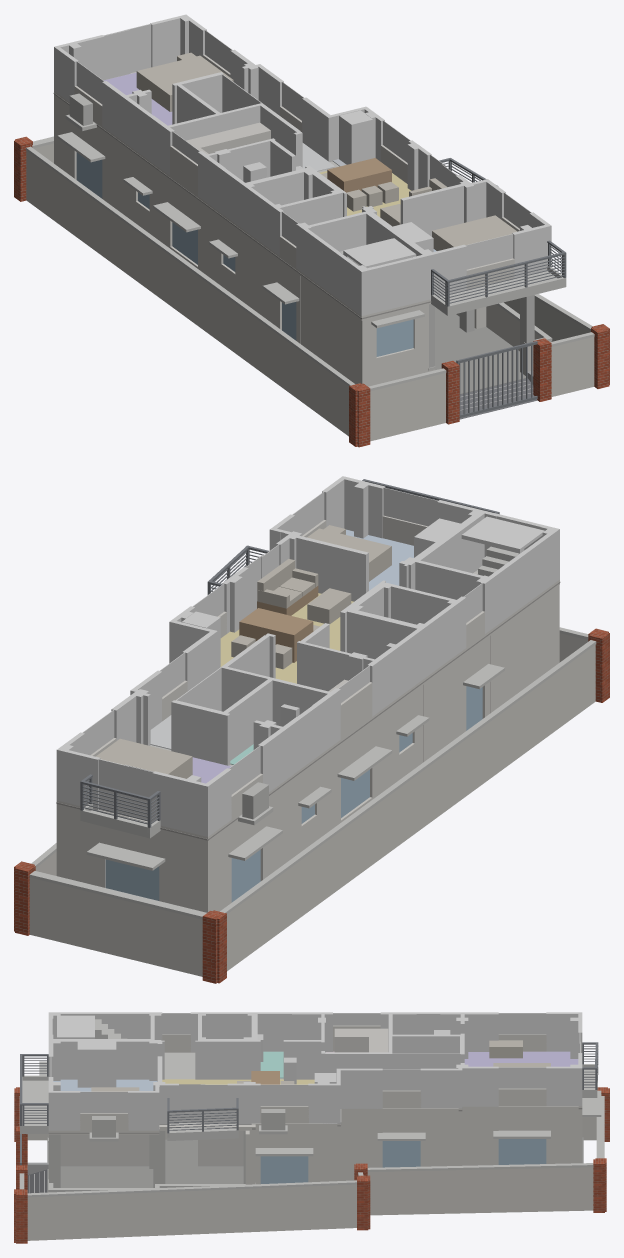
The picture shows the model from 3 angles, top to bottom: view 1: azimuth 30°, elevation 25°; view 2: azimuth 150°, elevation 25°; view 3: azimuth 270°, elevation 25°; orthographic projection. The views are drawn at different scales.
Parts seen in each view (by area): view 1: BOUNDARY#214, GROUND_FLOOR/core_wall#102, BOUNDARY#172, PLINTH#0, 1ST_FLOOR/wall#299, BOUNDARY/coping#215, GROUND_FLOOR/flat_wall#61, GROUND_FLOOR/core_wall#109, BOUNDARY#176, 1ST_FLOOR/wall#304, 1ST_FLOOR/partition#362, 1ST_FLOOR/wall#292 (+69 smaller); view 2: BOUNDARY#214, BOUNDARY#210, GROUND_FLOOR/core_wall#102, 1ST_FLOOR/wall#299, GROUND_FLOOR/flat_wall#83, BOUNDARY/coping#215, 1ST_FLOOR/partition#381, GROUND_FLOOR/flat_wall#88, 1ST_FLOOR/partition#364, GROUND_FLOOR/core_wall#109, 1ST_FLOOR/wall#347, 1ST_FLOOR/wall#304 (+64 smaller); view 3: BOUNDARY#198, BOUNDARY#206, GROUND_FLOOR/stair#42, GROUND_FLOOR/flat_wall#77, 1ST_FLOOR/partition#368, PLINTH#1, 1ST_FLOOR/partition#361, PLINTH#0, GROUND_FLOOR/flat_wall#82, GROUND_FLOOR/flat_wall#89, 1ST_FLOOR/furniture#395, 1ST_FLOOR/wall#304 (+80 smaller).
Part boxes in pixels (x1,y1,x2,y2): BOUNDARY#214: (26, 151, 348, 436); GROUND_FLOOR/core_wall#102: (301, 276, 361, 384); BOUNDARY#172: (370, 373, 445, 441); PLINTH#0: (435, 327, 525, 394); 1ST_FLOOR/wall#299: (296, 223, 362, 314); BOUNDARY/coping#215: (26, 146, 354, 386); GROUND_FLOOR/flat_wall#61: (102, 130, 137, 223); GROUND_FLOOR/core_wall#109: (242, 233, 275, 325); BOUNDARY#176: (551, 337, 594, 396); 1ST_FLOOR/wall#304: (235, 178, 283, 255); 1ST_FLOOR/partition#362: (402, 182, 474, 236); 1ST_FLOOR/wall#292: (413, 244, 466, 302); BOUNDARY#214: (227, 645, 595, 971); BOUNDARY#210: (29, 877, 202, 976); GROUND_FLOOR/core_wall#102: (490, 585, 559, 713); 1ST_FLOOR/wall#299: (480, 530, 557, 633); GROUND_FLOOR/flat_wall#83: (159, 831, 210, 912); BOUNDARY/coping#215: (220, 640, 596, 913); 1ST_FLOOR/partition#381: (171, 700, 230, 765); GROUND_FLOOR/flat_wall#88: (56, 805, 105, 887); 1ST_FLOOR/partition#364: (288, 535, 367, 601); GROUND_FLOOR/core_wall#109: (423, 657, 461, 761); 1ST_FLOOR/wall#347: (152, 771, 210, 836); 1ST_FLOOR/wall#304: (411, 596, 466, 684); BOUNDARY#198: (27, 1184, 356, 1240); BOUNDARY#206: (367, 1167, 593, 1215); GROUND_FLOOR/stair#42: (60, 1134, 149, 1166); GROUND_FLOOR/flat_wall#77: (340, 1112, 382, 1180); 1ST_FLOOR/partition#368: (195, 1040, 255, 1079); PLINTH#1: (165, 1139, 243, 1183); 1ST_FLOOR/partition#361: (52, 1040, 157, 1079); PLINTH#0: (47, 1137, 153, 1192); GROUND_FLOOR/flat_wall#82: (420, 1112, 458, 1166); GROUND_FLOOR/flat_wall#89: (462, 1110, 498, 1165); 1ST_FLOOR/furniture#395: (77, 1041, 116, 1087); 1ST_FLOOR/wall#304: (190, 1012, 268, 1052).
Size of the model in its own units: 8.06 by 4.7 by 18.89.
Materials: 1 (1 with a texture image).
